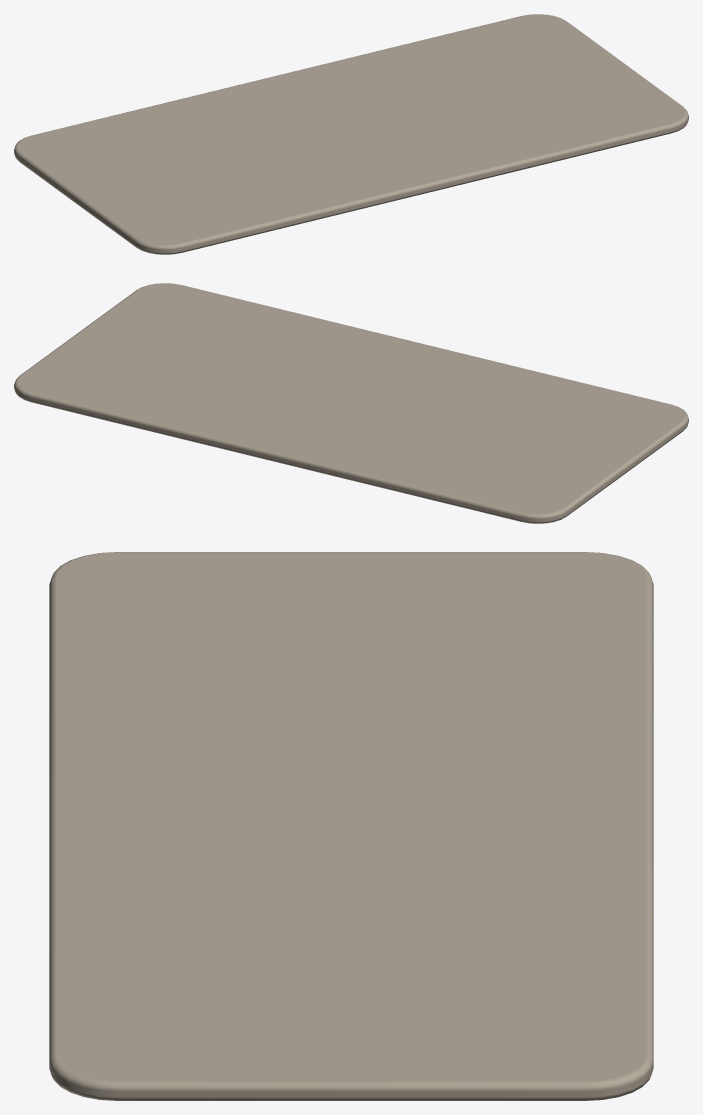
Rendered from bath_mat.gltf.
The picture shows the model from 3 angles, top to bottom: view 1: azimuth 30°, elevation 25°; view 2: azimuth 150°, elevation 25°; view 3: azimuth 270°, elevation 25°; orthographic projection. The views are drawn at different scales.
Visible parts, largest first — view 1: BathMat_Mat; view 2: BathMat_Mat; view 3: BathMat_Mat.
Boxes of the visible parts, x1,y1,x2,y2 form: BathMat_Mat: (14,14,688,254); BathMat_Mat: (14,283,688,523); BathMat_Mat: (49,552,653,1100).
Bounding box in the file's own units: 1.3 × 0.022 × 0.62.
